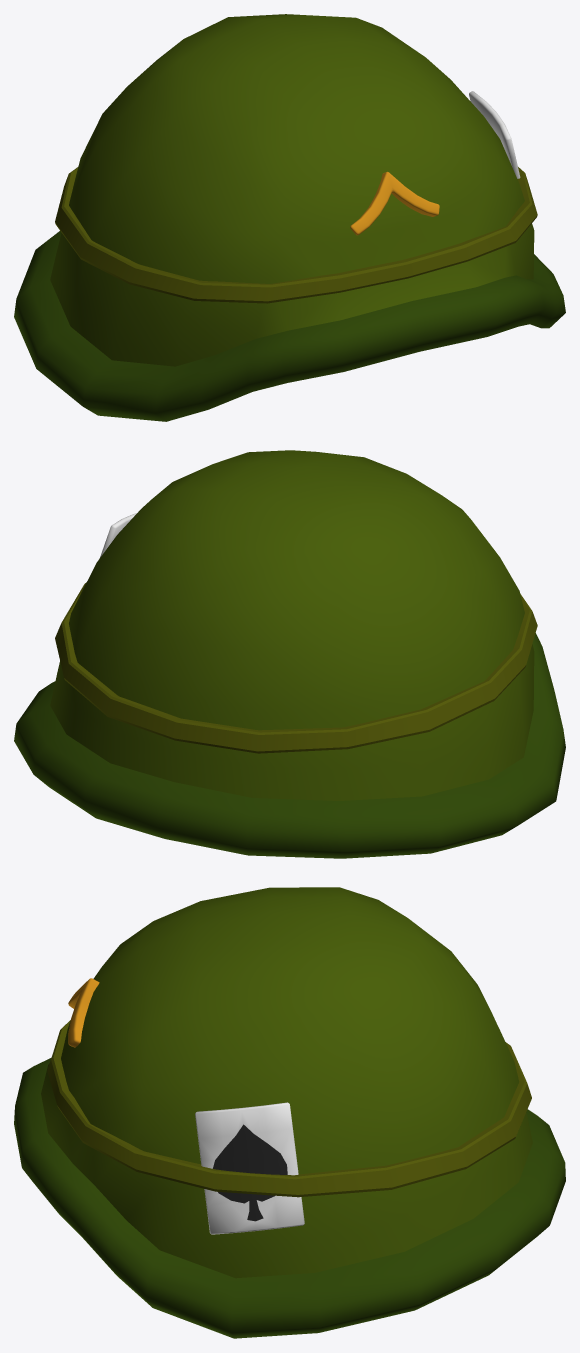
File: HeadGear08.fbx
The picture shows the model from 3 angles, top to bottom: view 1: azimuth 30°, elevation 25°; view 2: azimuth 150°, elevation 25°; view 3: azimuth 270°, elevation 25°; orthographic projection. The views are drawn at different scales.
Visible parts, largest first — view 1: HeadGear08; view 2: HeadGear08; view 3: HeadGear08.
Boxes of the visible parts, left/top/right/bottom form: HeadGear08: left=14, top=14, right=565, bottom=421; HeadGear08: left=14, top=450, right=565, bottom=858; HeadGear08: left=14, top=887, right=565, bottom=1338.
Size of the model in its own units: 60.76 by 58.32 by 36.58.
1 material, 1 textured.
